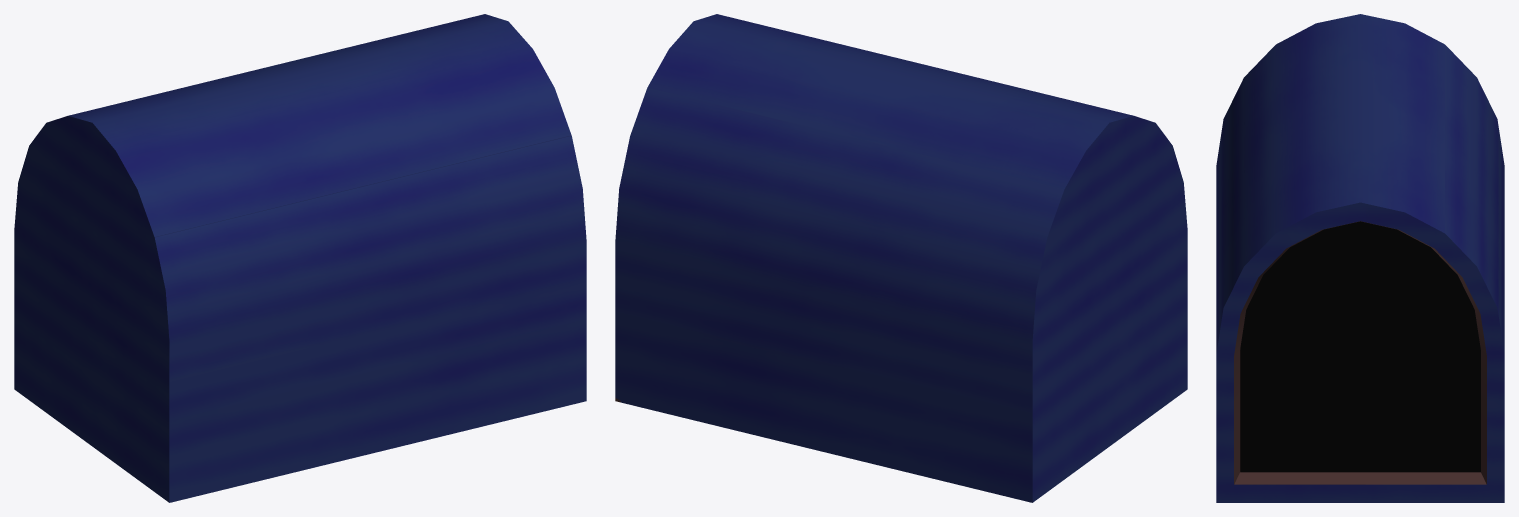
Rendered from Kennel_2.fbx.
3 views of the same model, side by side, from view 1: azimuth 30°, elevation 25°; view 2: azimuth 150°, elevation 25°; view 3: azimuth 270°, elevation 25° (orthographic). The views are drawn at different scales.
Parts seen in each view (by area): view 1: Kennel 2 EXP; view 2: Kennel 2 EXP; view 3: Kennel 2 EXP.
Part boxes in pixels (box(x1,y1,x2,y2)): Kennel 2 EXP: box(14, 14, 586, 502); Kennel 2 EXP: box(615, 14, 1187, 502); Kennel 2 EXP: box(1216, 14, 1504, 502).
Size of the model in its own units: 155 by 115 by 99.9.
1 material, 1 textured.
